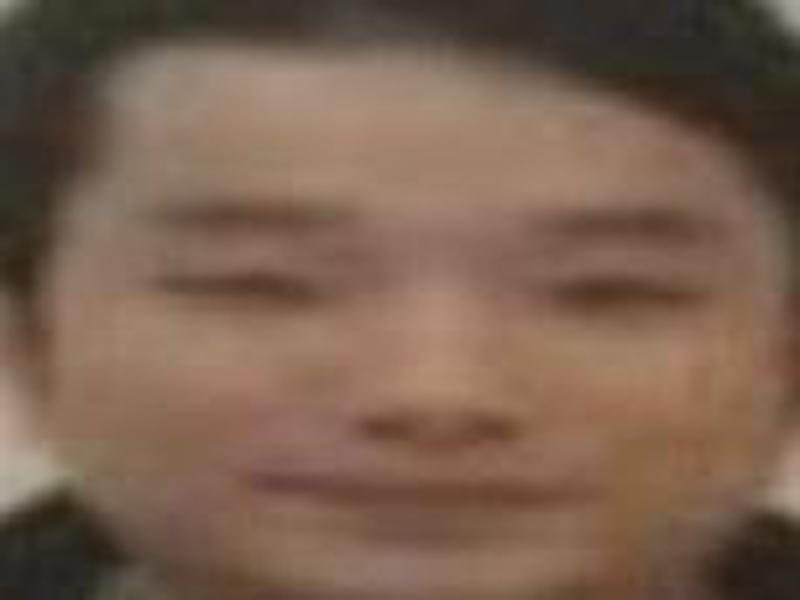without_mask: (61, 74, 766, 591)
